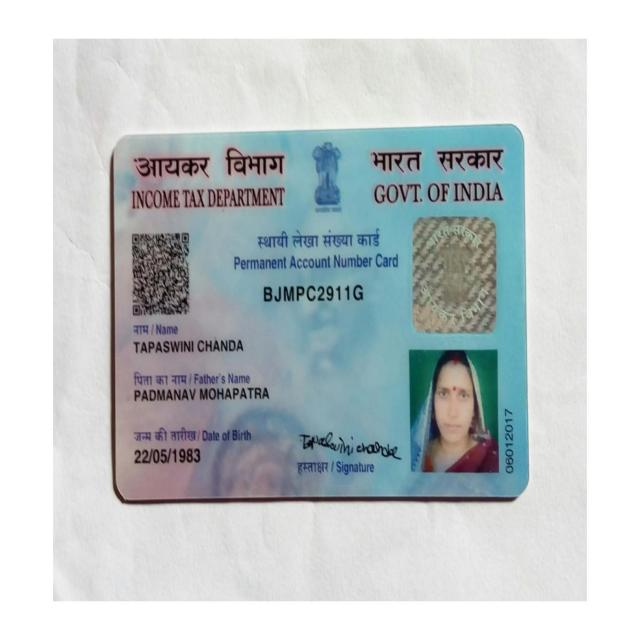pan_card: (118, 134, 523, 491)
